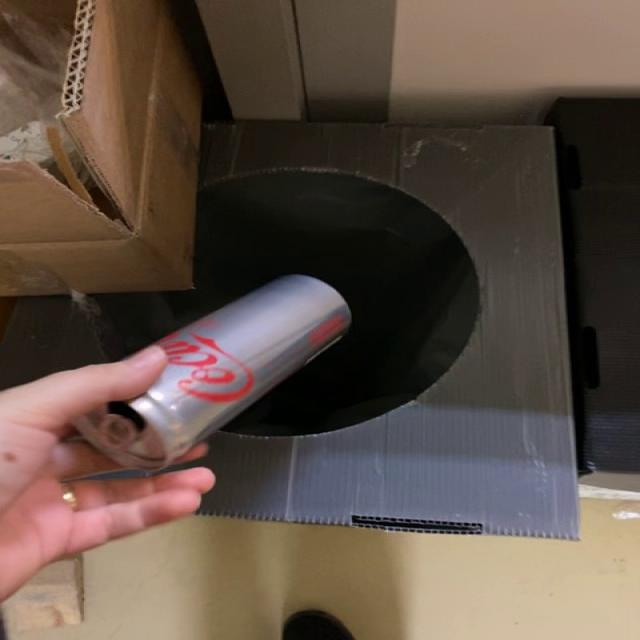bin: (1, 122, 577, 540)
metal: (76, 275, 351, 470)
